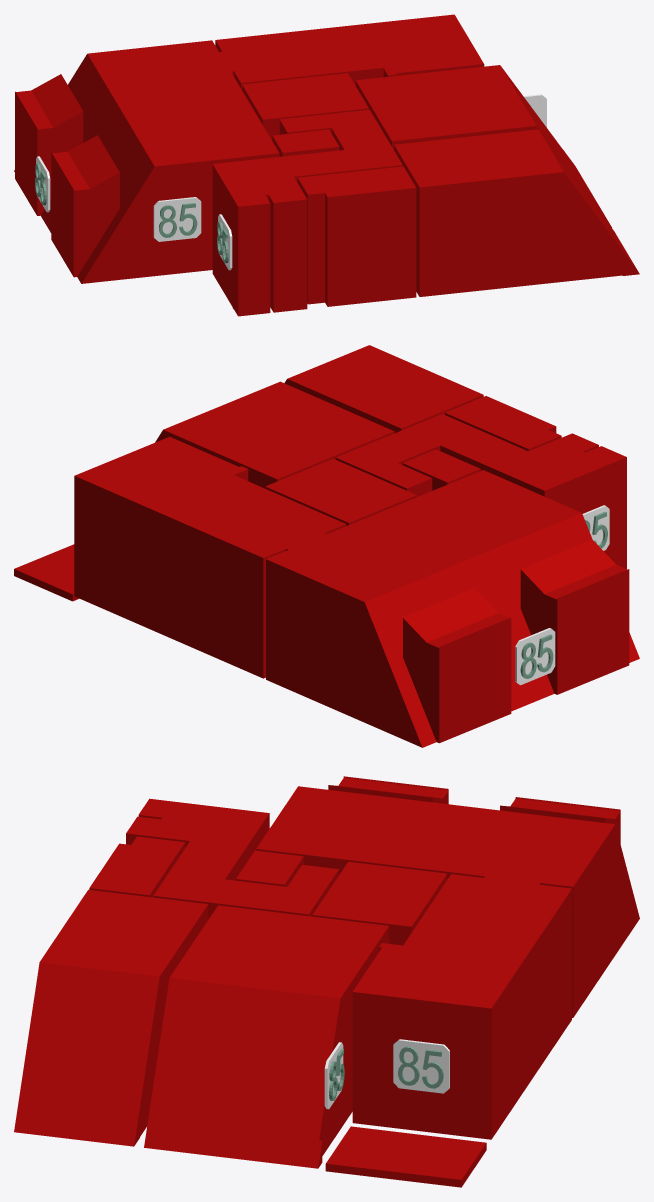
3 renders of one model, top to bottom at view 1: azimuth 30°, elevation 25°; view 2: azimuth 150°, elevation 25°; view 3: azimuth 270°, elevation 25°, orthographic. The views are drawn at different scales.
Parts seen in each view (by area): view 1: g_6, g_2, g_4, g_0, g_5, g_1, g_3, g_11, g_7; view 2: g_6, g_5, g_4, g_1, g_2, g_3, g_0, g_8, g_7, g_17, g_20; view 3: g_1, g_5, g_6, g_2, g_4, g_8, g_3, g_0, g_23, g_7.
Part boxes in pixels (box(x1,y1,x2,y2)): g_6: box(14, 40, 279, 283); g_2: box(394, 129, 639, 296); g_4: box(212, 109, 402, 316); g_0: box(297, 166, 416, 306); g_5: box(215, 14, 484, 89); g_1: box(355, 65, 611, 227); g_3: box(242, 73, 368, 140); g_11: box(153, 197, 201, 241); g_7: box(272, 129, 339, 156); g_6: box(266, 470, 639, 747); g_5: box(74, 436, 346, 678); g_4: box(335, 414, 626, 568); g_1: box(155, 381, 394, 488); g_2: box(284, 345, 483, 432); g_3: box(265, 458, 416, 525); g_0: box(445, 396, 561, 451); g_8: box(14, 544, 79, 601); g_7: box(402, 449, 480, 490); g_17: box(515, 628, 555, 685); g_20: box(582, 505, 609, 550); g_1: box(144, 905, 389, 1168); g_5: box(352, 874, 571, 1139); g_6: box(256, 776, 639, 1017); g_2: box(14, 889, 208, 1146); g_4: box(126, 798, 338, 919); g_8: box(325, 1126, 486, 1187); g_3: box(312, 861, 447, 945); g_0: box(89, 836, 185, 897); g_23: box(393, 1039, 449, 1093); g_7: box(236, 850, 303, 886).
Size of the model in its own units: 12.42 by 2.71 by 11.01.
